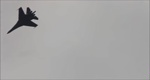maybay_muctieu: (7, 6, 38, 36)
